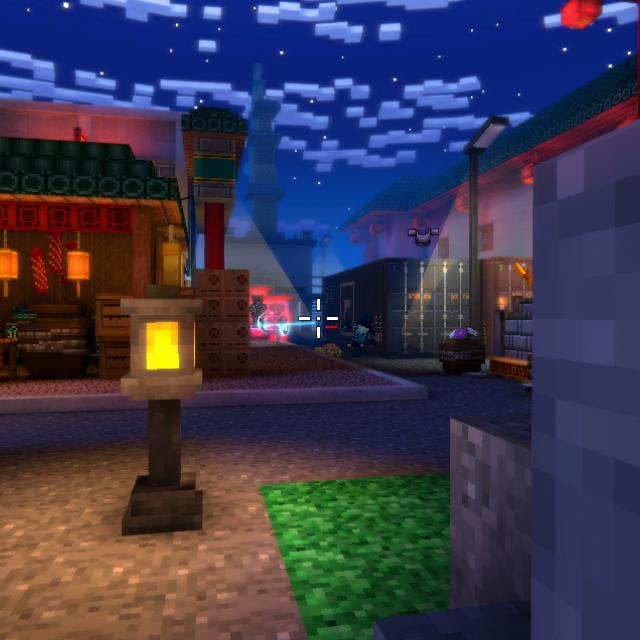Enemy: (250, 296, 284, 341), (266, 303, 288, 341), (248, 293, 268, 334)
